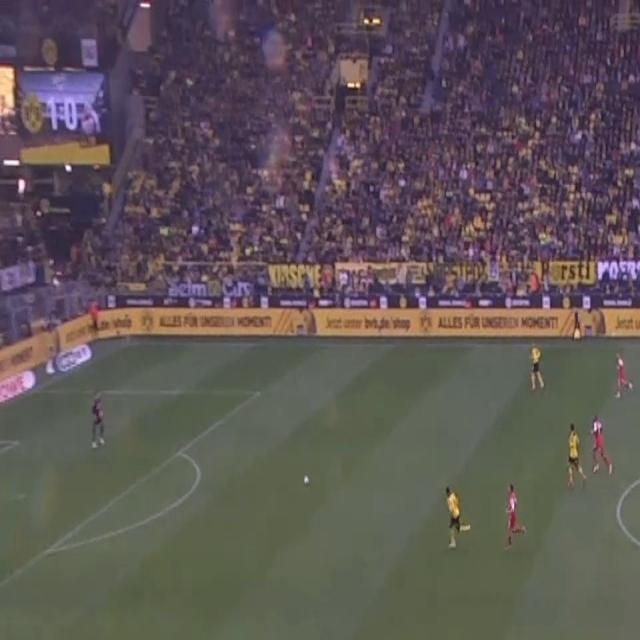ball: (303, 474, 310, 486)
